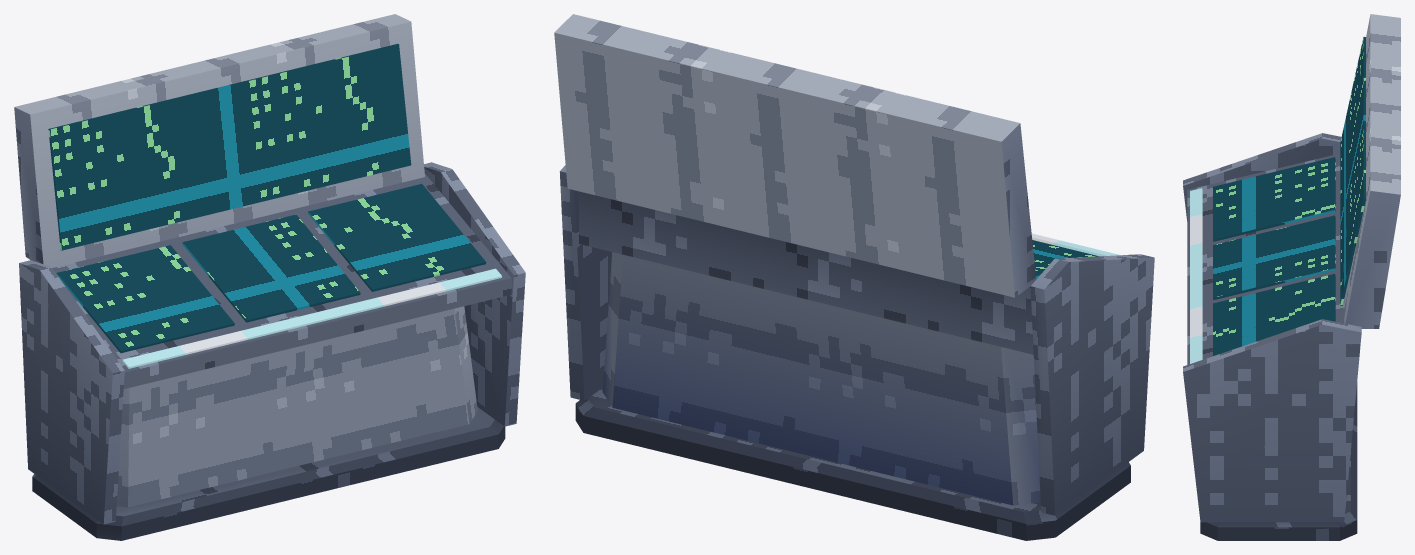
Rendered from tech.console__tall.glb.
3 views of the same model, side by side, from view 1: azimuth 30°, elevation 25°; view 2: azimuth 150°, elevation 25°; view 3: azimuth 270°, elevation 25° (orthographic). The views are drawn at different scales.
Parts seen in each view (by area): view 1: kit_back_screen, kit_body, kit_screens, kit_fins, kit_back, kit_desk, kit_plinth, kit_strip; view 2: kit_back, kit_body, kit_fins, kit_desk, kit_plinth, kit_screens; view 3: kit_fins, kit_screens, kit_back, kit_desk, kit_back_screen, kit_plinth, kit_strip.
Part boxes in pixels (x1=…): kit_back_screen: x1=48, y1=43, x2=411, y2=250; kit_body: x1=116, y1=306, x2=477, y2=507; kit_screens: x1=56, y1=184, x2=486, y2=353; kit_fins: x1=19, y1=162, x2=525, y2=524; kit_back: x1=14, y1=14, x2=424, y2=267; kit_desk: x1=52, y1=173, x2=511, y2=388; kit_plinth: x1=32, y1=407, x2=505, y2=540; kit_strip: x1=122, y1=268, x2=501, y2=368; kit_back: x1=554, y1=14, x2=1036, y2=297; kit_body: x1=602, y1=252, x2=1040, y2=505; kit_fins: x1=559, y1=165, x2=1154, y2=515; kit_desk: x1=579, y1=191, x2=1033, y2=354; kit_plinth: x1=575, y1=387, x2=1130, y2=540; kit_screens: x1=1032, y1=240, x2=1098, y2=278; kit_fins: x1=1183, y1=133, x2=1361, y2=522; kit_screens: x1=1213, y1=157, x2=1335, y2=355; kit_back: x1=1344, y1=14, x2=1400, y2=328; kit_desk: x1=1187, y1=153, x2=1344, y2=364; kit_back_screen: x1=1340, y1=37, x2=1365, y2=305; kit_plinth: x1=1200, y1=382, x2=1357, y2=540; kit_strip: x1=1190, y1=188, x2=1202, y2=363.
Bounding box in the file's own units: 2.08 × 1.74 × 1.
Materials: 6 (6 with a texture image).
